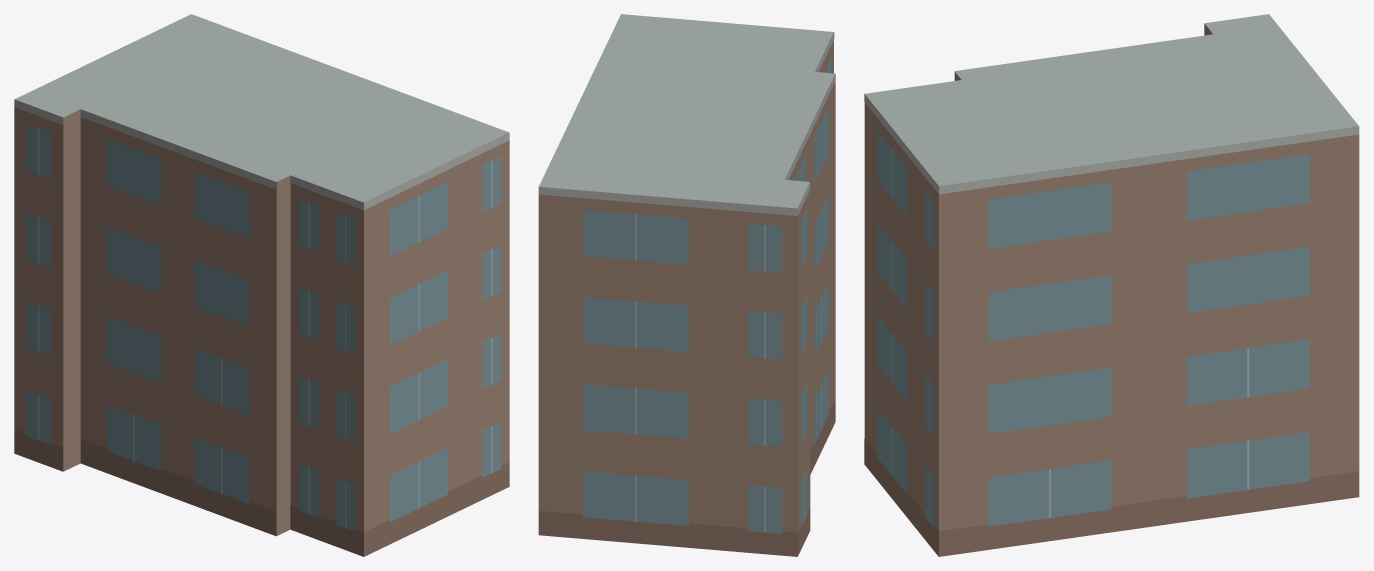
Rendered from survey-upis-32751747.glb.
3 views of the same model, side by side, from view 1: azimuth 30°, elevation 25°; view 2: azimuth 150°, elevation 25°; view 3: azimuth 270°, elevation 25° (orthographic). The views are drawn at different scales.
Visible parts, largest first — view 1: survey-upis-32751747.tmp; view 2: survey-upis-32751747.tmp; view 3: survey-upis-32751747.tmp.
Boxes of the visible parts, bbox=[...] form: survey-upis-32751747.tmp: bbox=[14, 14, 509, 556]; survey-upis-32751747.tmp: bbox=[538, 14, 835, 556]; survey-upis-32751747.tmp: bbox=[864, 14, 1359, 556].
Bounding box in the file's own units: 11.16 × 11.19 × 13.55.
